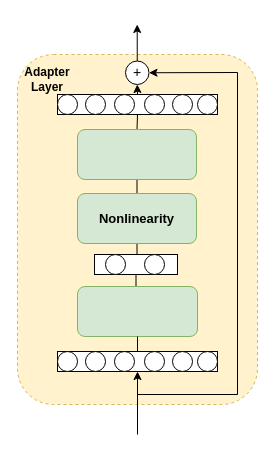
The diagram is 275 pixels wide and 460 high, and some of its shapes have lost their labels. The shapes that lost their labels are listed below. From the top down, each one's centre as x and y in pixels, then its label:
At [136,154]: "Feedforwaed up-project".
At [137,311]: "Feedforward down-project".
